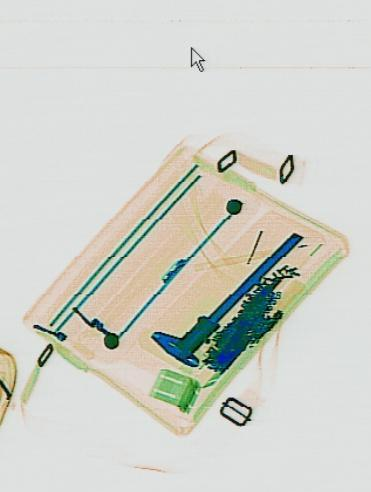plier: (213, 277, 282, 364)
